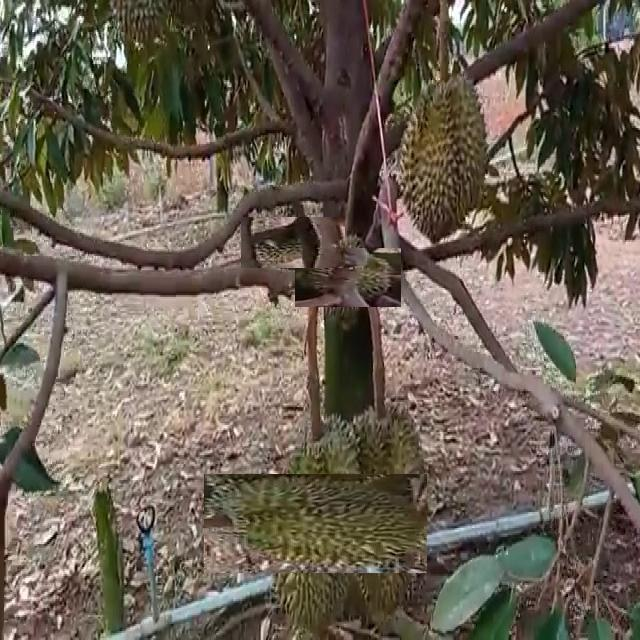durian: (235, 443, 396, 605), (345, 393, 430, 626), (392, 63, 490, 247), (307, 235, 389, 319), (255, 204, 332, 282)
